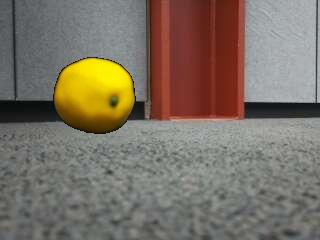lemon: (53, 60, 136, 135)
